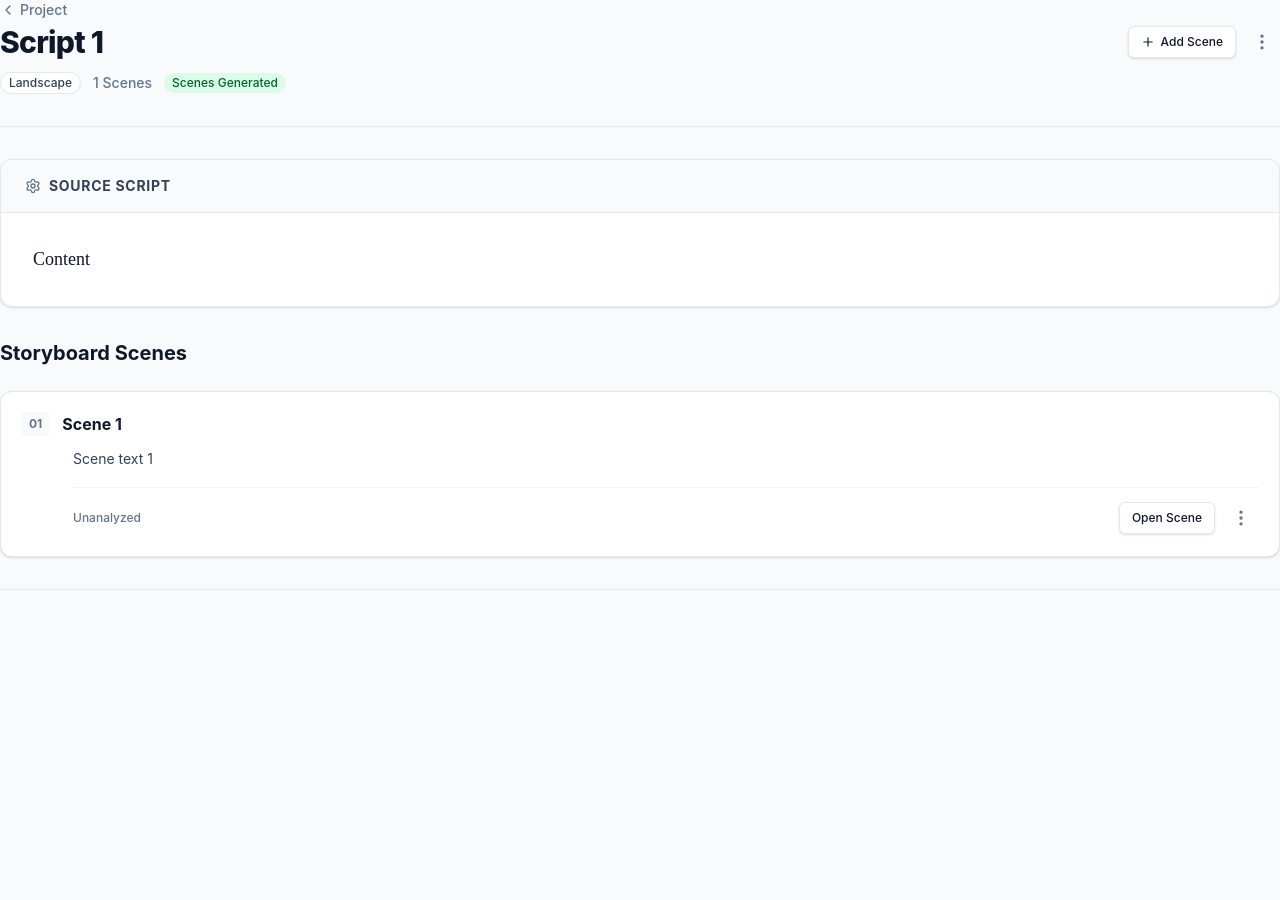
ScriptPage Component › renders scene list correctly and handles modal
Expected: the text "Scene text 1" is shown, top-left (73, 450), bottom-right (153, 467)
Expected: the link "Open Scene" is shown, top-left (1119, 502), bottom-right (1215, 534)
// Check Modal
Step 1. Click the button "Add Scene" → x=1182, y=42, box top-left (1128, 26), bottom-right (1236, 58)
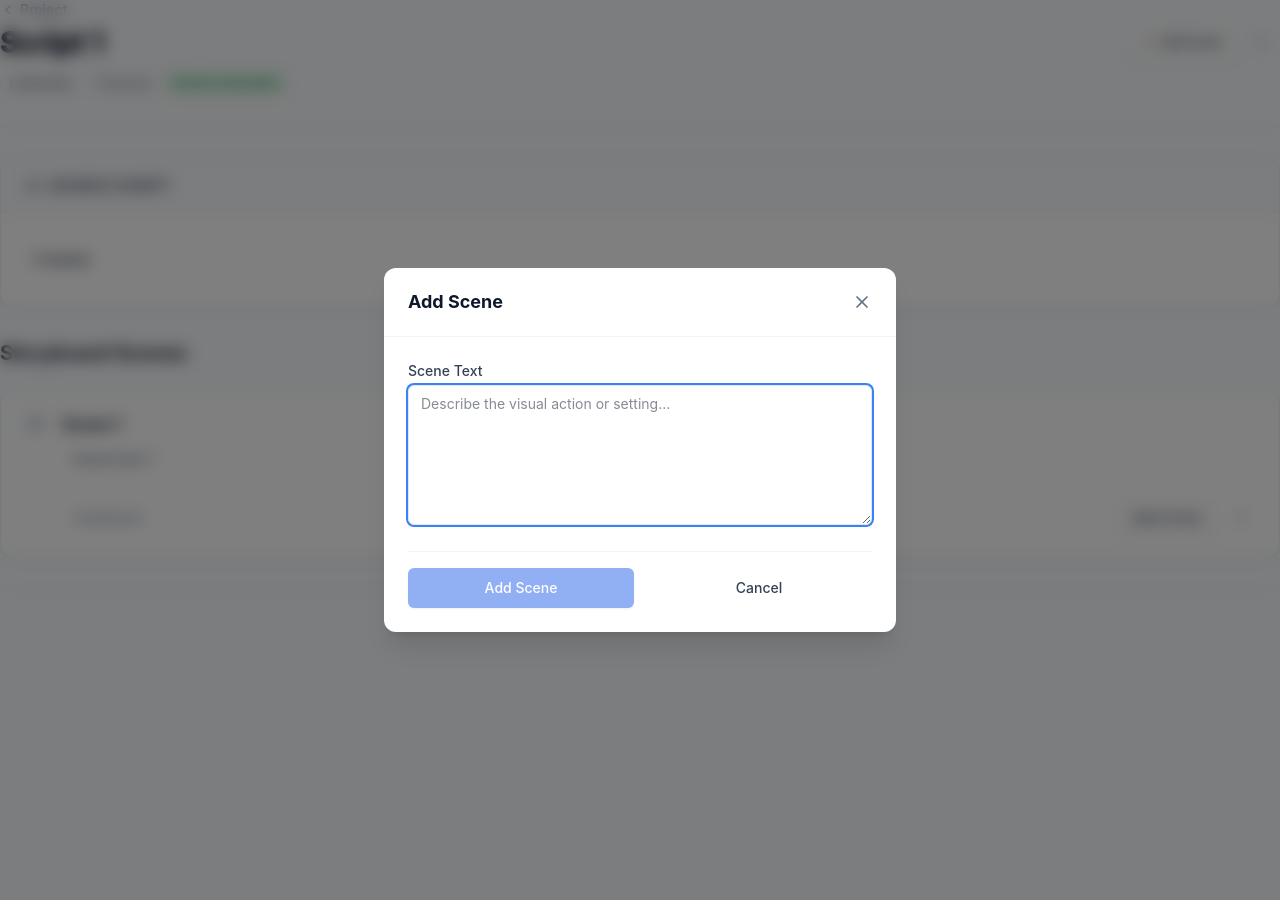
Expected: the dialog is shown, top-left (384, 268), bottom-right (896, 632)
Expected: the text box with placeholder "Describe the visual action or setting..." is shown, top-left (408, 385), bottom-right (872, 525)
